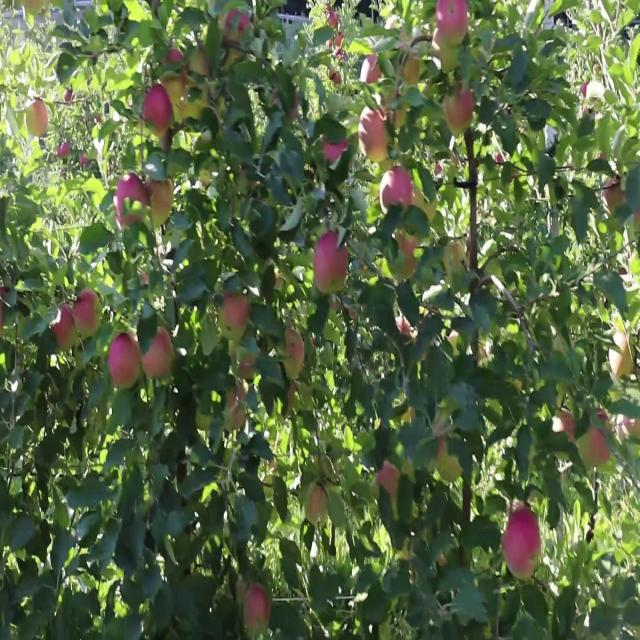apple: (504, 504, 543, 581), (312, 234, 350, 297), (108, 334, 140, 391), (144, 327, 176, 379), (444, 85, 476, 137), (116, 177, 148, 229), (584, 412, 612, 469), (360, 113, 389, 164), (144, 85, 174, 133), (72, 291, 101, 338), (380, 170, 414, 210), (436, 0, 469, 41), (244, 583, 272, 631), (436, 433, 462, 484), (148, 177, 175, 226), (220, 291, 250, 332), (612, 334, 635, 382), (432, 35, 461, 73), (284, 327, 305, 377), (228, 383, 248, 434), (52, 305, 75, 348), (164, 49, 188, 87), (384, 92, 409, 128), (400, 234, 421, 276), (376, 462, 400, 498), (28, 99, 49, 139), (224, 14, 251, 44), (604, 177, 625, 212), (444, 241, 466, 274), (188, 49, 211, 78), (308, 483, 327, 517), (556, 412, 577, 441), (364, 56, 383, 87), (392, 99, 409, 132), (404, 56, 422, 87), (324, 142, 348, 164), (240, 355, 258, 380), (620, 419, 640, 441), (288, 92, 301, 124), (196, 412, 213, 432), (396, 319, 412, 340), (596, 412, 611, 432), (288, 383, 297, 411), (0, 291, 6, 329), (636, 213, 640, 226)
